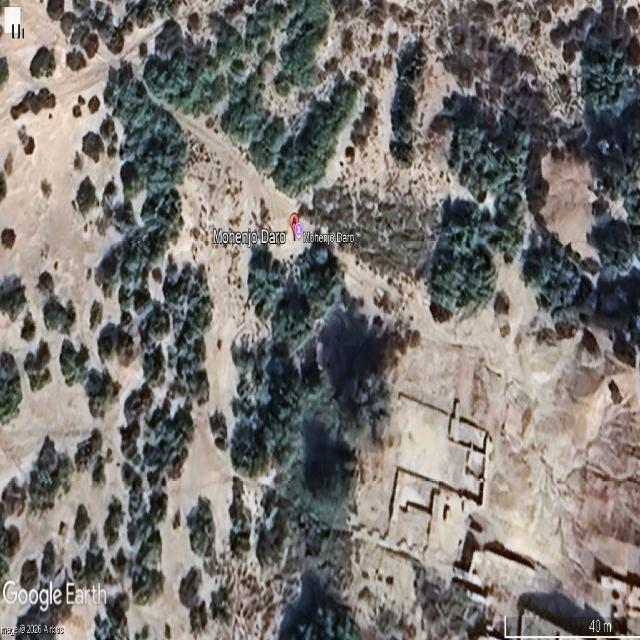objects-ruins-artifacts: (43, 132, 361, 408), (443, 36, 615, 383)
